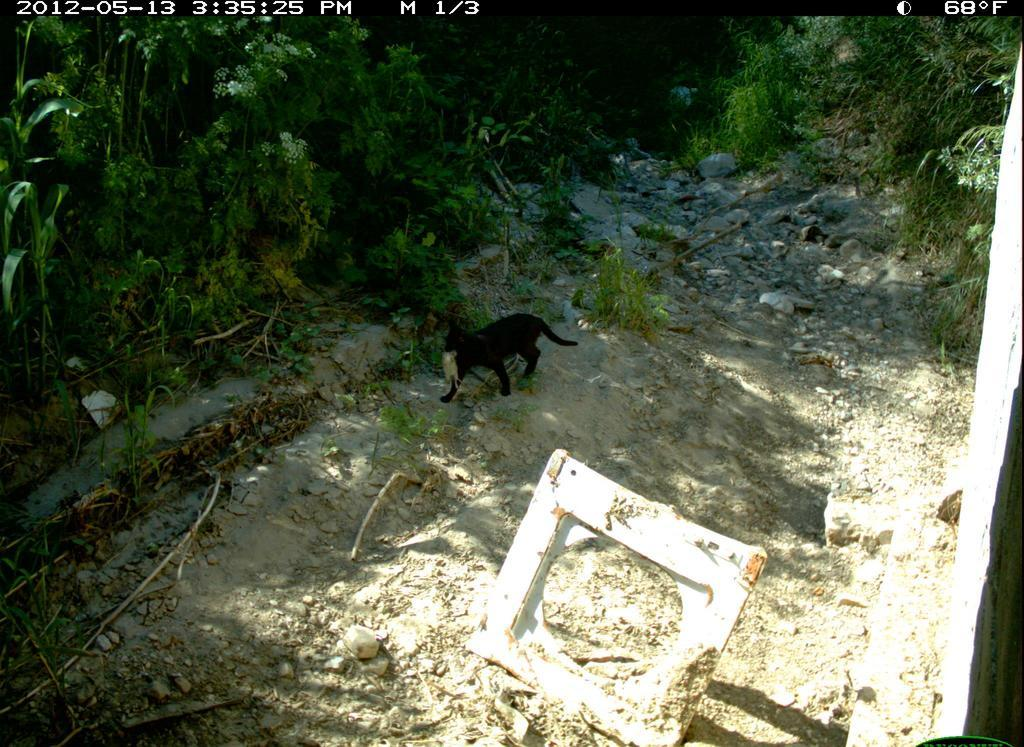cat: (431, 302, 573, 409)
